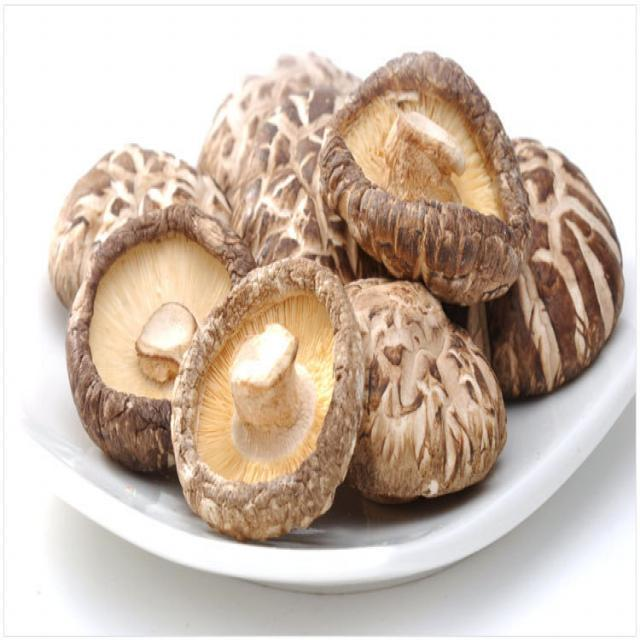Lentinus edodes: (169, 257, 363, 542), (319, 53, 531, 301), (67, 204, 253, 476), (460, 139, 625, 403), (340, 278, 506, 495), (196, 52, 367, 254), (49, 142, 206, 309)
